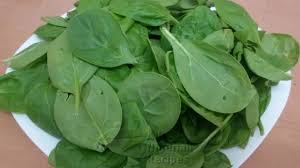spinach: (62, 13, 214, 115), (79, 51, 240, 142)
